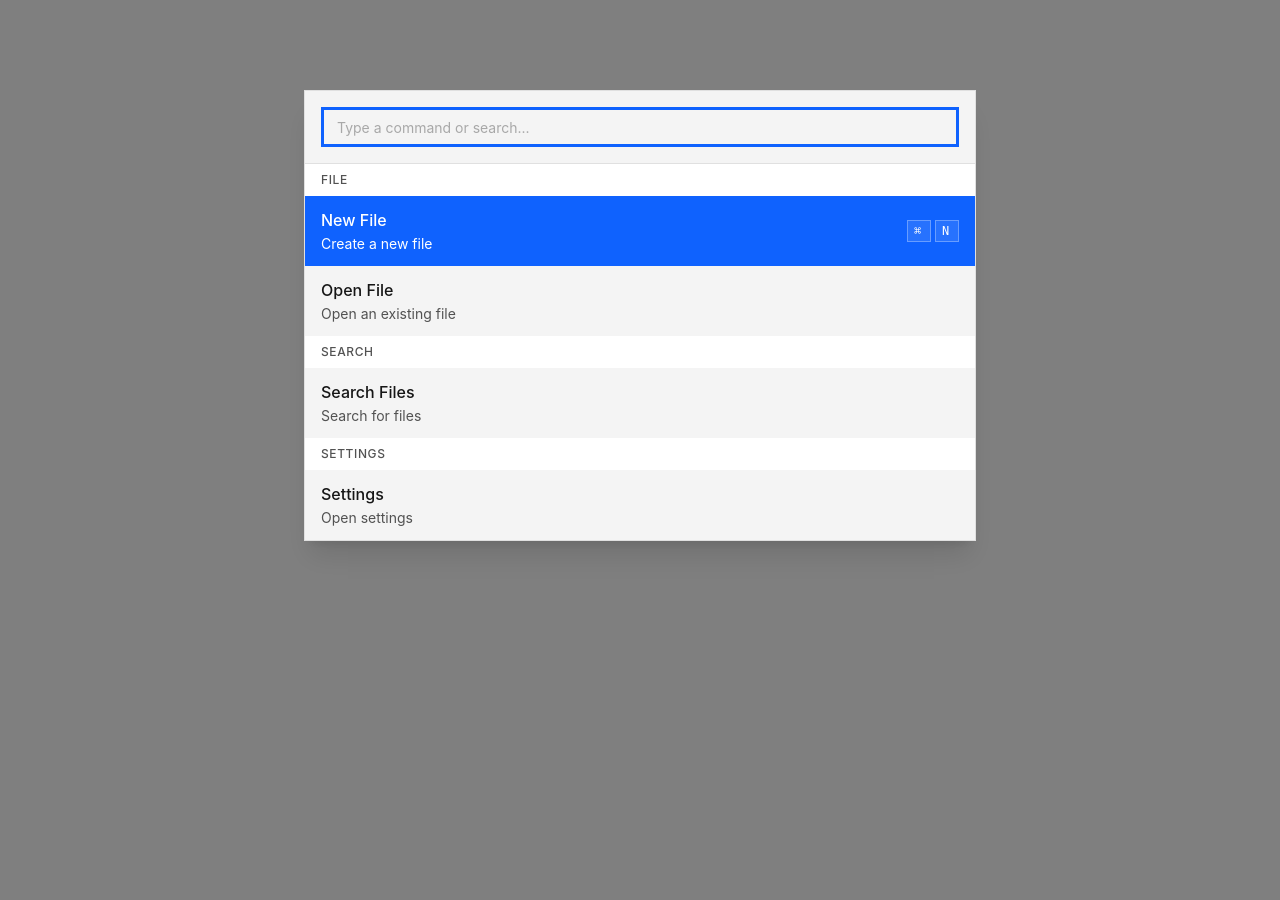
Test: CommandPalette › Rendering › should render custom empty message
The image size is (1280, 900).
Type "xyz" into the field with placeholder "Type a command or search..." at (640, 127), box [321,107,959,147]
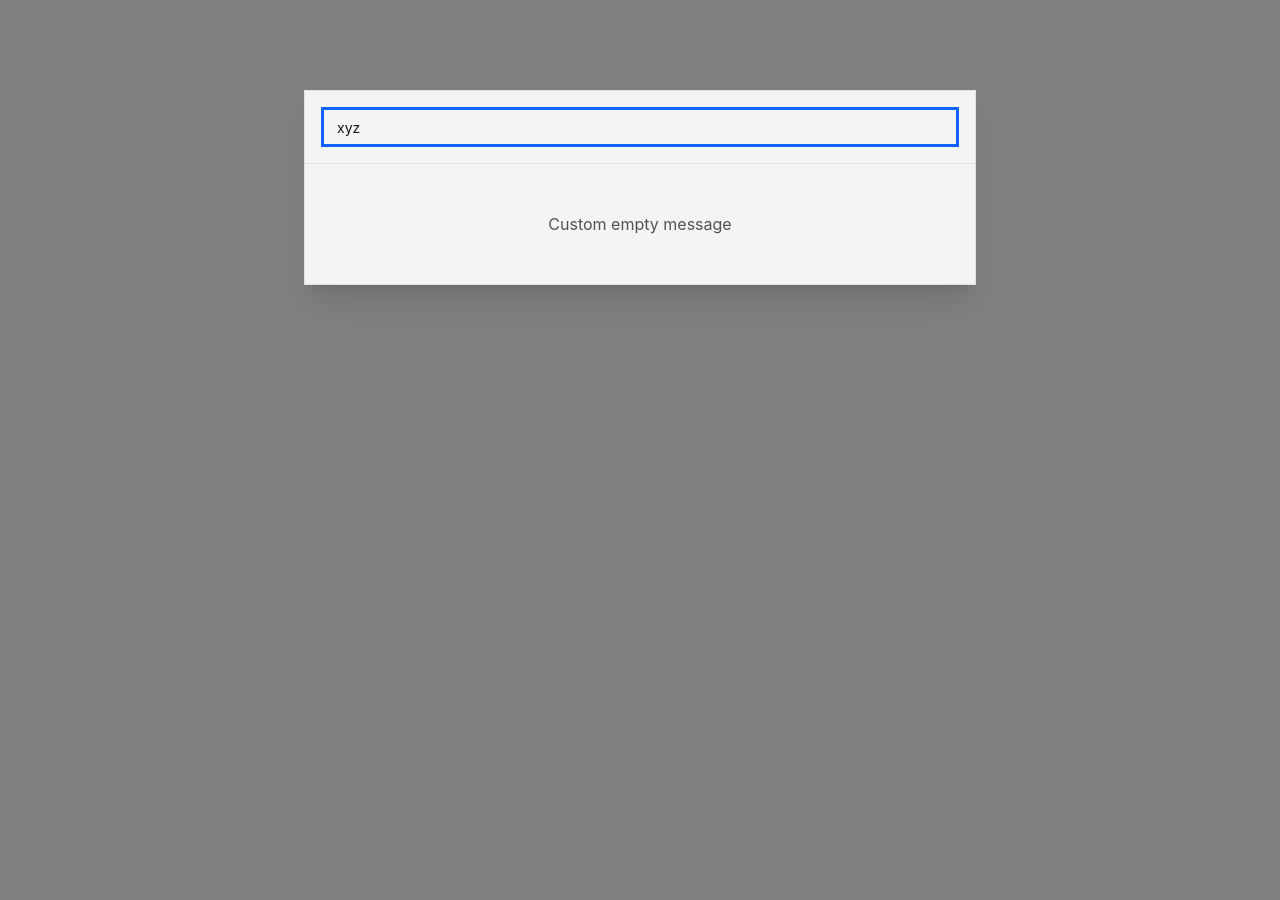
expect the text "Custom empty message" is shown: met, box [548,214,732,234]
